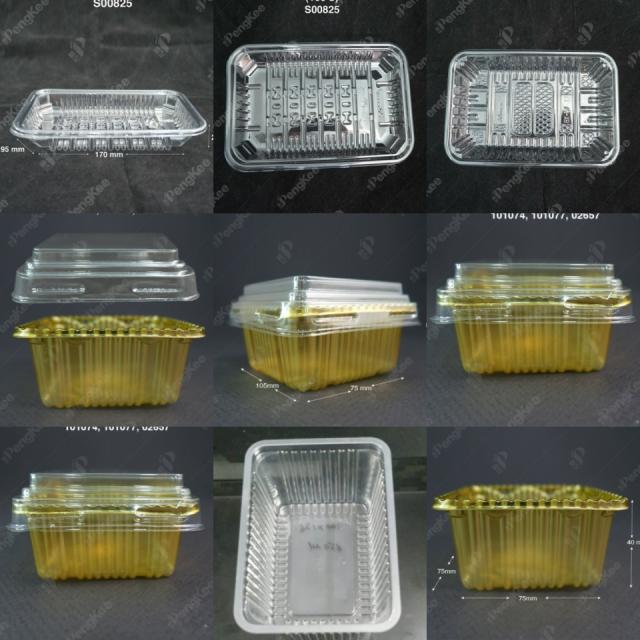Single-Use-Plastic: (234, 438, 401, 634), (225, 42, 414, 171), (432, 262, 635, 373), (230, 275, 419, 391), (8, 472, 202, 579), (432, 485, 628, 589), (445, 51, 619, 167), (14, 315, 205, 408), (12, 232, 199, 303), (10, 89, 208, 152)
